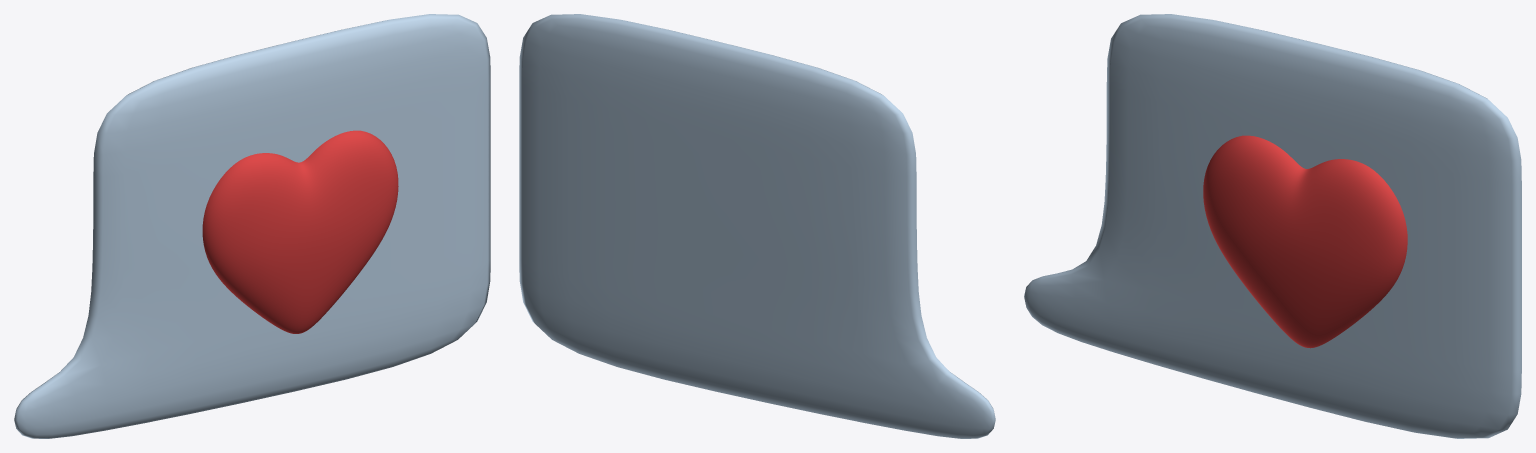
Rendered from galb.fbx.
3 views of the same model, side by side, from view 1: azimuth 30°, elevation 25°; view 2: azimuth 150°, elevation 25°; view 3: azimuth 330°, elevation 25° (orthographic). The views are drawn at different scales.
Visible parts, largest first — view 1: Cube, 12190_Heart_v1_L3; view 2: Cube; view 3: Cube, 12190_Heart_v1_L3.
Boxes of the visible parts, <box> form: Cube: <box>14,14,490,438</box>; 12190_Heart_v1_L3: <box>202,130,398,333</box>; Cube: <box>519,14,995,438</box>; Cube: <box>1024,14,1521,438</box>; 12190_Heart_v1_L3: <box>1203,135,1407,348</box>.
Size of the model in its own units: 151 by 106 by 16.28.
